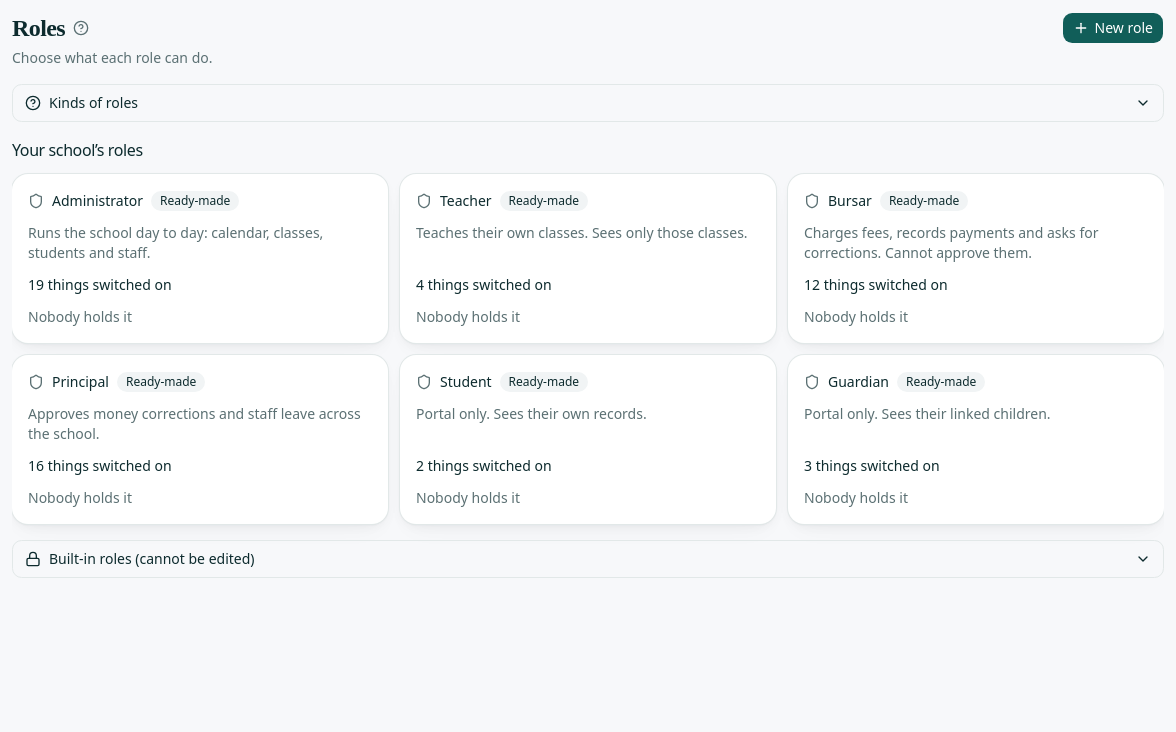
Test: RolesPage › explains the kinds of roles in a closed disclosure
The image size is (1176, 732).
Expected: the element "Your school’s roles" is shown, top-left (12, 138), bottom-right (1164, 524)
Click the button "Kinds of roles".
click(94, 102)  # box top-left (13, 85), bottom-right (1163, 121)
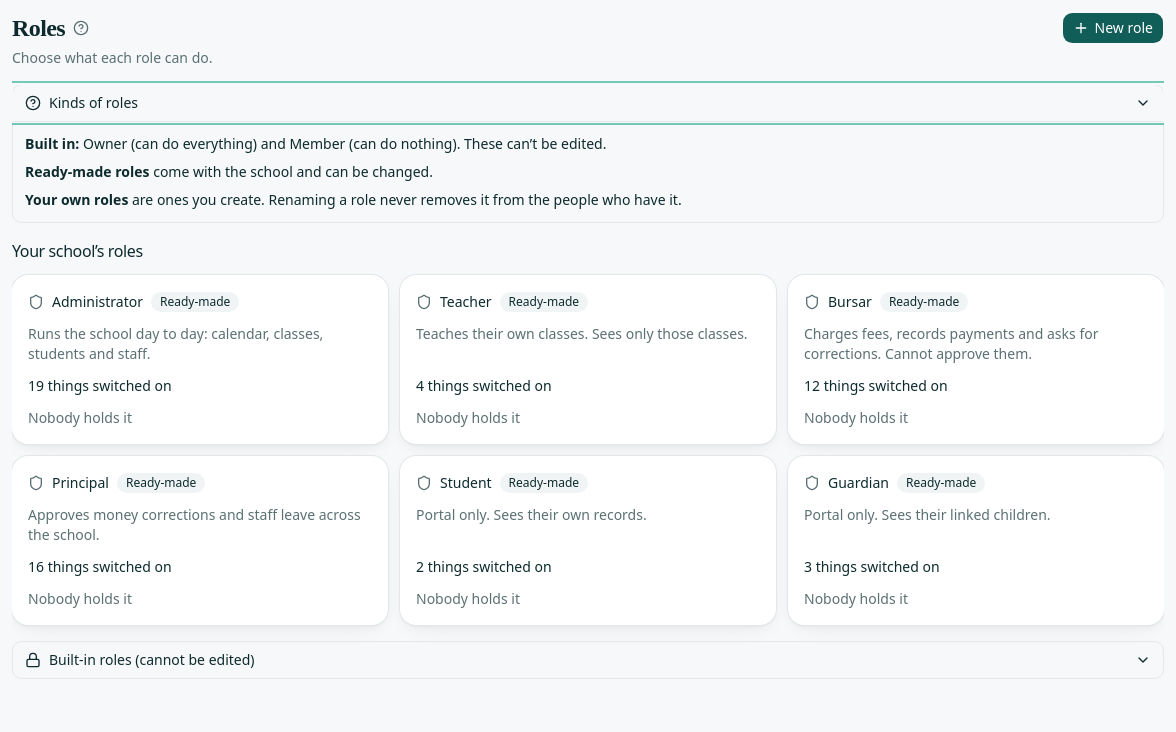
Expected: the text "Ready-made roles" is shown, top-left (25, 162), bottom-right (150, 181)
Expected: the text "Your own roles" is shown, top-left (25, 190), bottom-right (128, 209)
